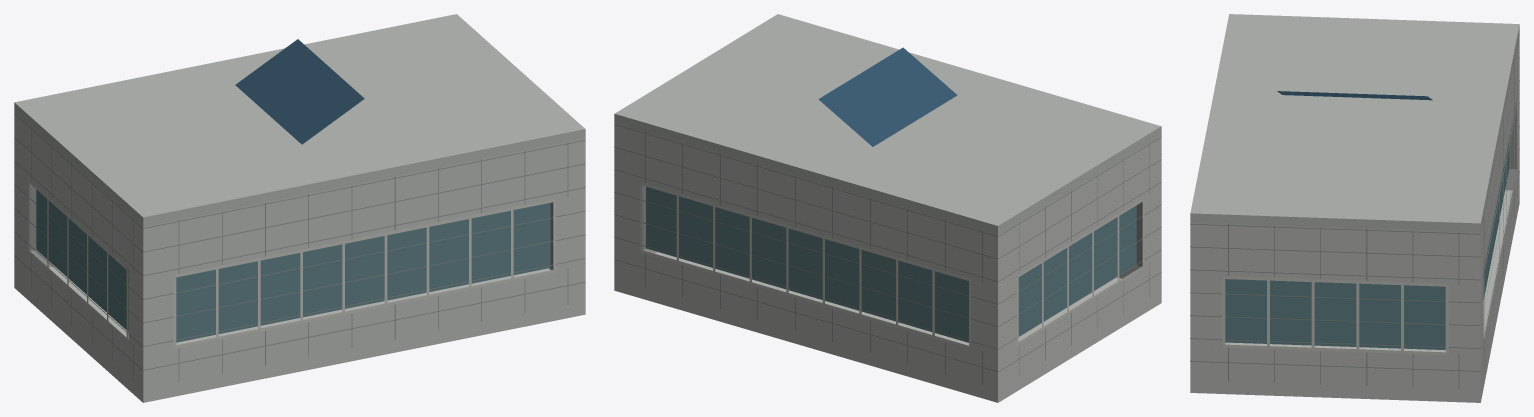
3 renders of one model, left to right at view 1: azimuth 30°, elevation 25°; view 2: azimuth 150°, elevation 25°; view 3: azimuth 270°, elevation 25°, orthographic. The views are drawn at different scales.
Parts seen in each view (by area): view 1: gate-guardhouse__guardhouse-flat-coping, gate-guardhouse__stone, gate-guardhouse__recessed-guard-window-1, gate-guardhouse__stone-footing, gate-guardhouse__reveal, gate-guardhouse__roof-solar-panel, gate-guardhouse__frame, gate-guardhouse__recessed-guard-window-0; view 2: gate-guardhouse__guardhouse-flat-coping, gate-guardhouse__stone, gate-guardhouse__recessed-guard-window-3, gate-guardhouse__stone-footing, gate-guardhouse__roof-solar-panel, gate-guardhouse__reveal, gate-guardhouse__recessed-guard-window-0, gate-guardhouse__frame; view 3: gate-guardhouse__guardhouse-flat-coping, gate-guardhouse__stone, gate-guardhouse__recessed-guard-window-2, gate-guardhouse__stone-footing, gate-guardhouse__reveal, gate-guardhouse__frame, gate-guardhouse__recessed-guard-window-3, gate-guardhouse__roof-solar-panel.
Part boxes in pixels (x1=…): gate-guardhouse__guardhouse-flat-coping: x1=14, y1=14, x2=585, y2=226; gate-guardhouse__stone: x1=14, y1=112, x2=585, y2=389; gate-guardhouse__recessed-guard-window-1: x1=176, y1=203, x2=550, y2=342; gate-guardhouse__stone-footing: x1=14, y1=266, x2=585, y2=402; gate-guardhouse__reveal: x1=14, y1=113, x2=585, y2=382; gate-guardhouse__roof-solar-panel: x1=235, y1=39, x2=364, y2=144; gate-guardhouse__frame: x1=27, y1=179, x2=555, y2=348; gate-guardhouse__recessed-guard-window-0: x1=36, y1=189, x2=128, y2=331; gate-guardhouse__guardhouse-flat-coping: x1=614, y1=14, x2=1161, y2=234; gate-guardhouse__stone: x1=614, y1=123, x2=1161, y2=389; gate-guardhouse__recessed-guard-window-3: x1=646, y1=186, x2=968, y2=342; gate-guardhouse__stone-footing: x1=614, y1=252, x2=1161, y2=402; gate-guardhouse__roof-solar-panel: x1=818, y1=47, x2=957, y2=146; gate-guardhouse__reveal: x1=614, y1=124, x2=1161, y2=385; gate-guardhouse__recessed-guard-window-0: x1=1017, y1=205, x2=1136, y2=335; gate-guardhouse__frame: x1=640, y1=182, x2=1144, y2=348; gate-guardhouse__guardhouse-flat-coping: x1=1190, y1=14, x2=1519, y2=232; gate-guardhouse__stone: x1=1190, y1=34, x2=1519, y2=389; gate-guardhouse__recessed-guard-window-2: x1=1225, y1=279, x2=1445, y2=349; gate-guardhouse__stone-footing: x1=1190, y1=190, x2=1519, y2=402; gate-guardhouse__reveal: x1=1190, y1=36, x2=1519, y2=388; gate-guardhouse__frame: x1=1222, y1=100, x2=1517, y2=355; gate-guardhouse__recessed-guard-window-3: x1=1483, y1=140, x2=1509, y2=299; gate-guardhouse__roof-solar-panel: x1=1277, y1=91, x2=1432, y2=100.
Bounding box in the file's own units: 11.8 × 5.74 × 7.84.
